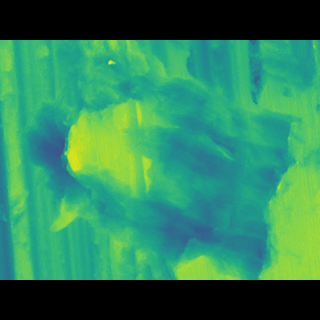Loch: (25, 73, 303, 240)
